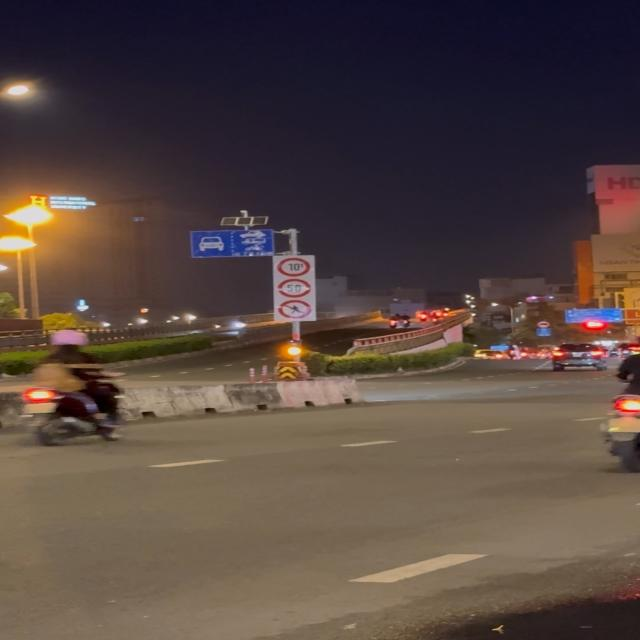Bien bao cam nguoi di bo: (277, 300, 314, 320)
Bien bao toc do toi da cho phep: (278, 278, 312, 299)
